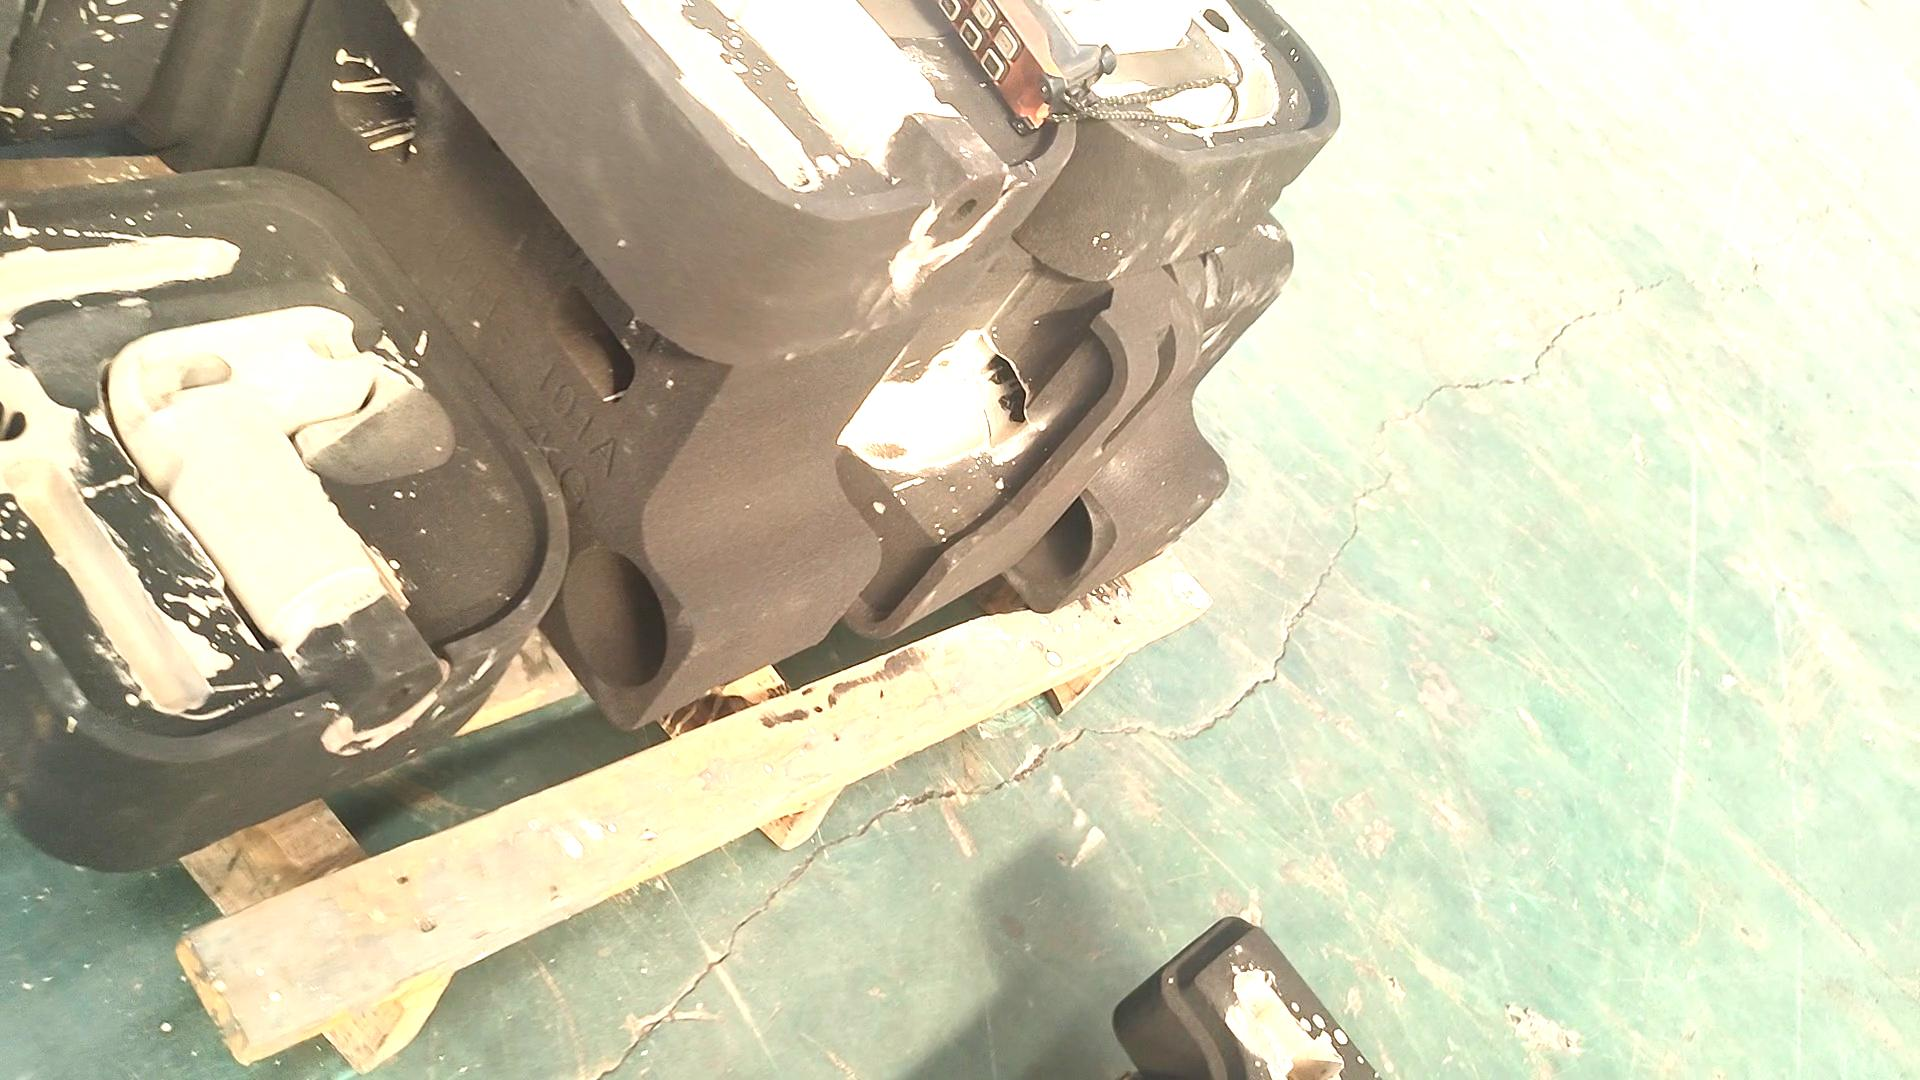pouring hole: (562, 547, 669, 688), (982, 469, 1093, 584)
